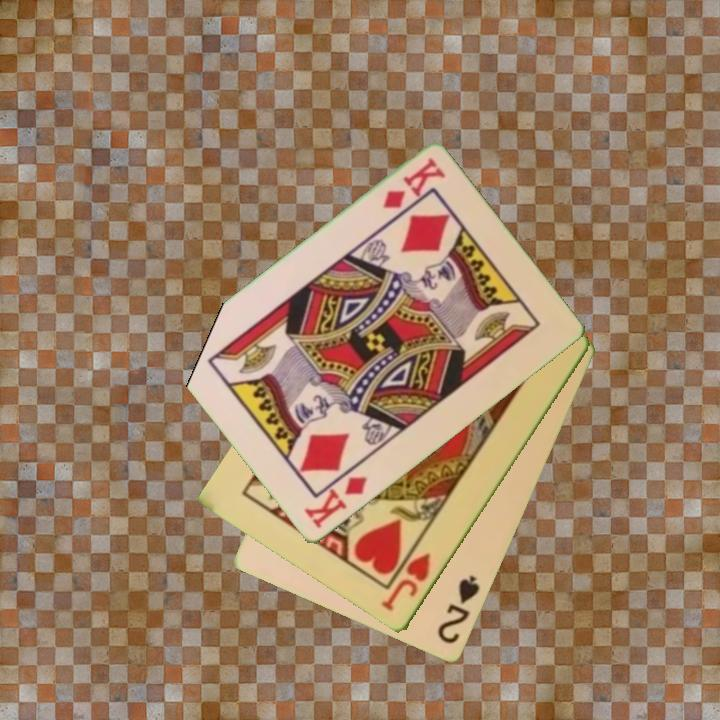2s: (434, 572, 483, 648)
Jh: (378, 549, 434, 615)
Kd: (300, 473, 371, 533), (379, 154, 448, 213)
